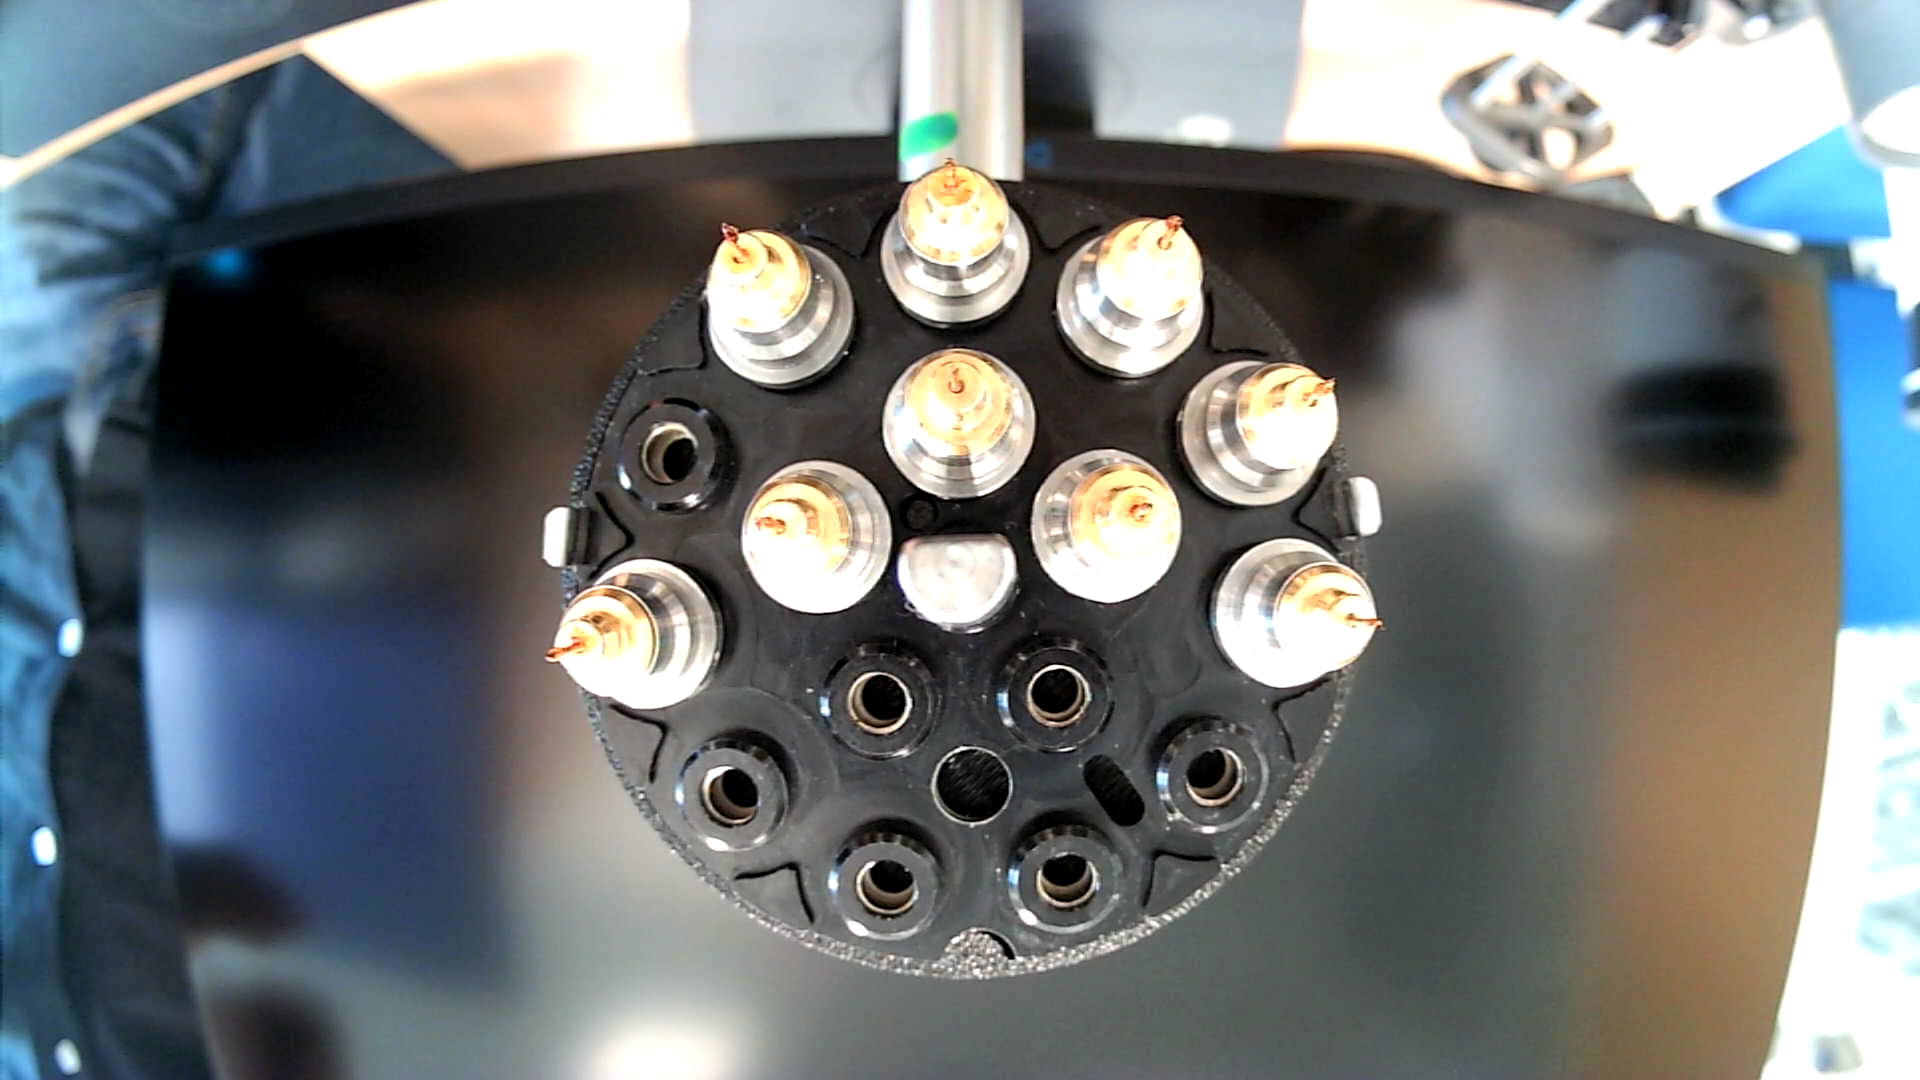empty: (671, 723, 804, 857), (823, 814, 952, 952), (814, 636, 947, 769), (608, 392, 741, 524), (1147, 712, 1275, 845), (996, 632, 1117, 761), (1002, 818, 1131, 935)
hole: (927, 742, 1014, 829)
pin: (543, 555, 725, 715), (700, 218, 857, 396), (1211, 537, 1385, 694), (878, 158, 1031, 334), (1054, 212, 1205, 384), (1179, 359, 1342, 512), (738, 458, 894, 617), (880, 347, 1038, 501), (1030, 448, 1184, 607)
rod: (890, 530, 1023, 637)
